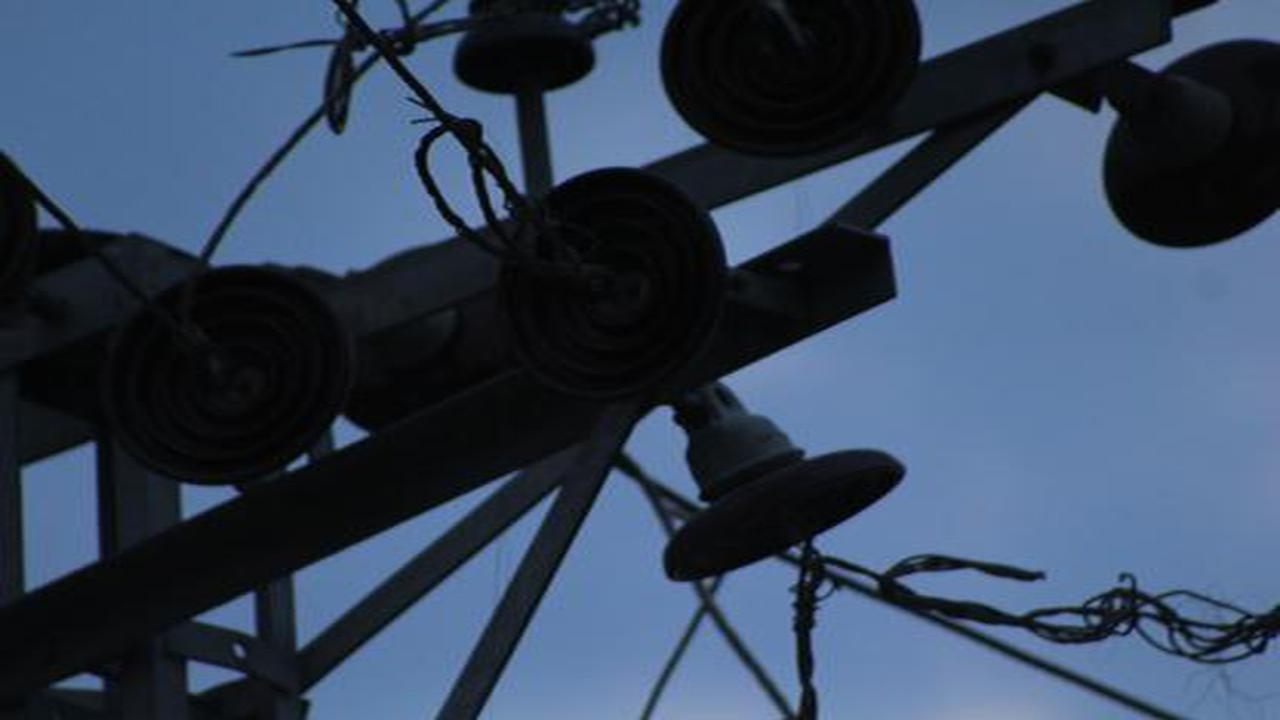insulator_disc: (494, 162, 734, 417), (96, 264, 357, 496), (657, 8, 926, 162), (652, 432, 912, 588), (1101, 28, 1269, 260)
